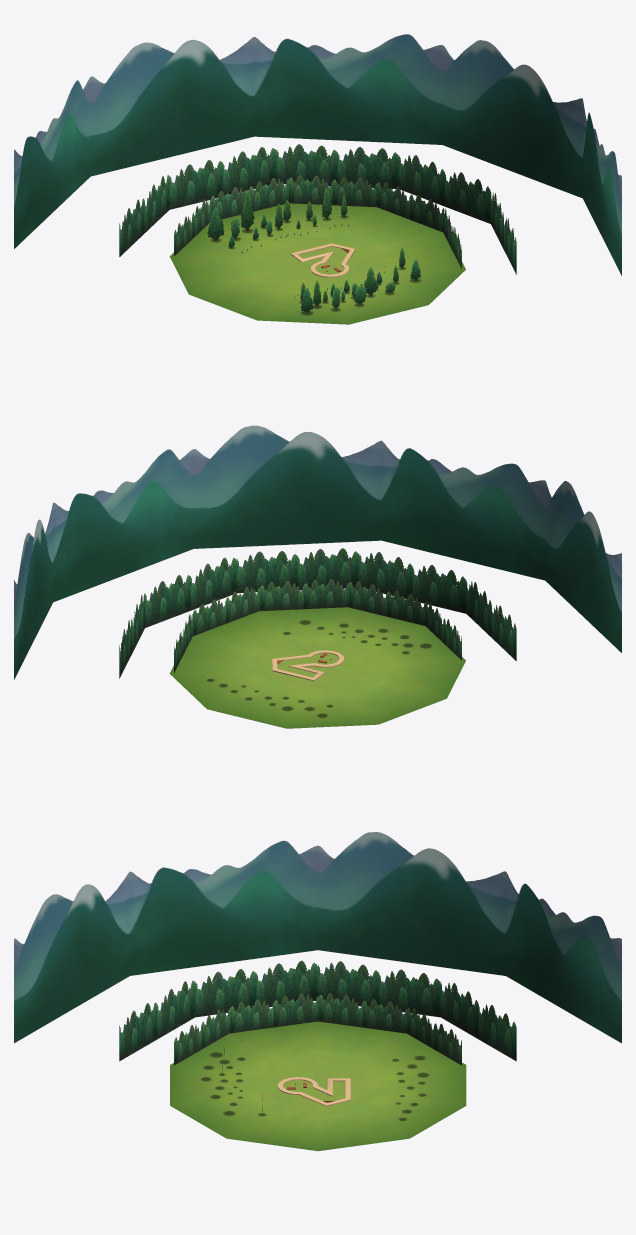
Rendered from hole9.glb.
The picture shows the model from 3 angles, top to bottom: view 1: azimuth 30°, elevation 25°; view 2: azimuth 150°, elevation 25°; view 3: azimuth 270°, elevation 25°; orthographic projection. The views are drawn at different scales.
Visible parts, largest first — view 1: background1, grass_base, background3, background2, edges1, grass1; view 2: background1, grass_base, background3, background2, edges1, grass1; view 3: background1, grass_base, background3, background2, edges1, grass1.
Part boxes in pixels (bbox=[...]): background1: bbox=[14, 34, 621, 275]; grass_base: bbox=[169, 203, 465, 324]; background3: bbox=[119, 144, 516, 274]; background2: bbox=[174, 175, 461, 268]; edges1: bbox=[290, 243, 355, 277]; grass1: bbox=[298, 246, 347, 274]; background1: bbox=[14, 425, 621, 679]; grass_base: bbox=[169, 607, 465, 728]; background3: bbox=[119, 548, 516, 678]; background2: bbox=[174, 579, 461, 672]; edges1: bbox=[272, 650, 344, 681]; grass1: bbox=[277, 653, 339, 677]; background1: bbox=[14, 832, 621, 1043]; grass_base: bbox=[170, 1021, 466, 1151]; background3: bbox=[119, 960, 516, 1061]; background2: bbox=[174, 993, 461, 1065]; edges1: bbox=[278, 1077, 350, 1106]; grass1: bbox=[283, 1080, 345, 1100].
Size of what is drawn, in the model's own units: 347 by 78.81 by 330.
10 materials, 9 textured.
